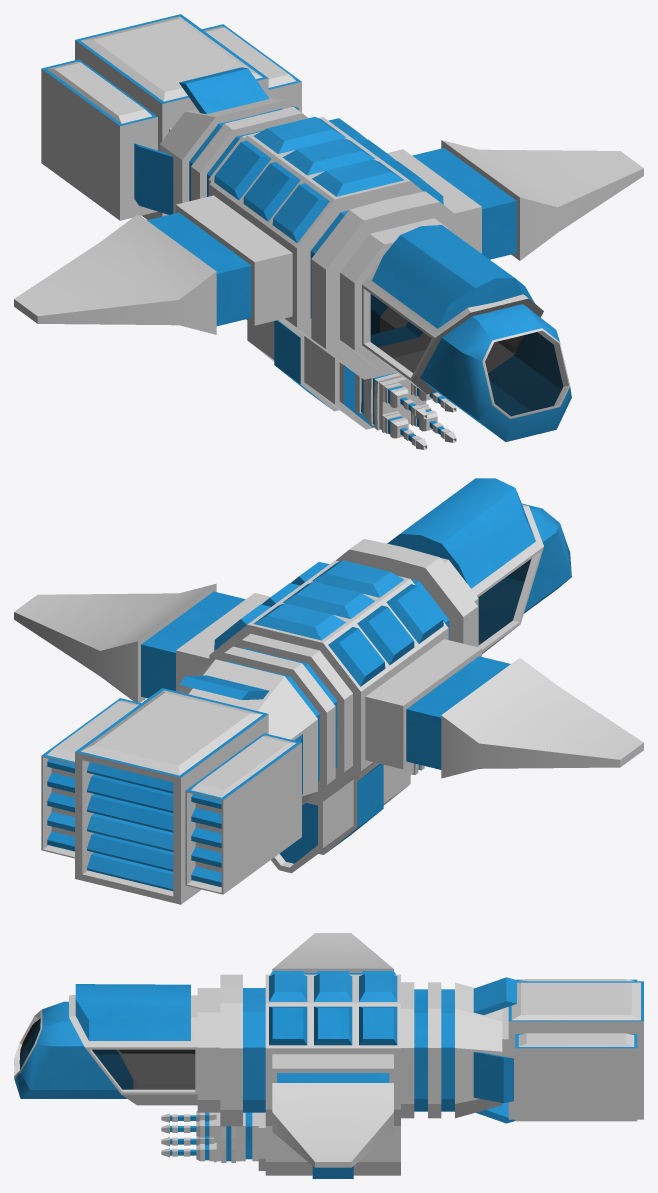
File: BEC.fbx
3 views of the same model, one above another, from view 1: azimuth 30°, elevation 25°; view 2: azimuth 150°, elevation 25°; view 3: azimuth 270°, elevation 25° (orthographic). The views are drawn at different scales.
Parts seen in each view (by area): view 1: BEC; view 2: BEC; view 3: BEC.
Boxes of the visible parts, x1,y1,x2,y2 form: BEC: (14, 14, 643, 449); BEC: (14, 478, 643, 904); BEC: (14, 933, 643, 1178).
Bounding box in the file's own units: 8 × 3.15 × 9.31.
